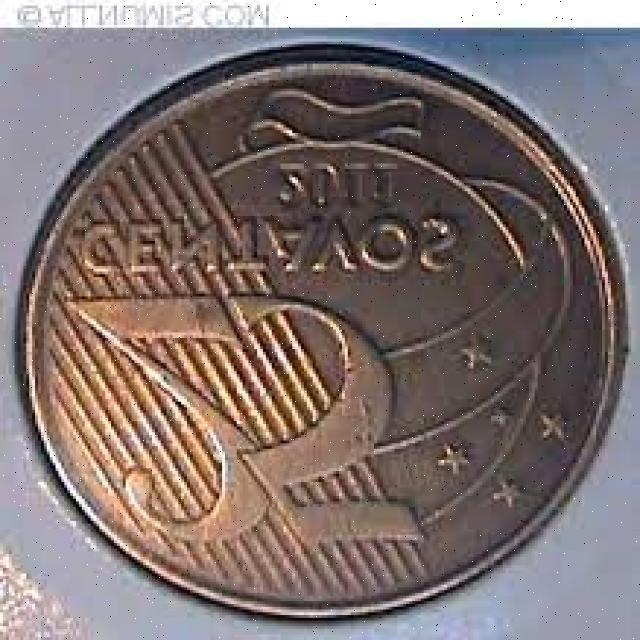25 cent: (31, 92, 604, 606)
